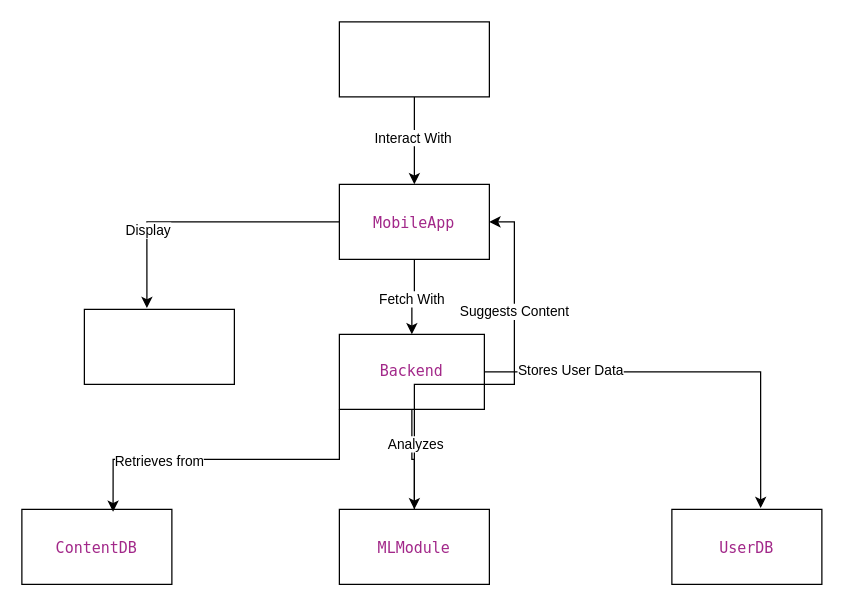
The diagram is 844 pixels wide and 606 high, and some of its shapes have lost their labels. The shapes that lost their labels are listed below. From the top down, each one's centre as x and y in pixels, then its label:
the point at 413,59: User
the point at 158,346: UI
